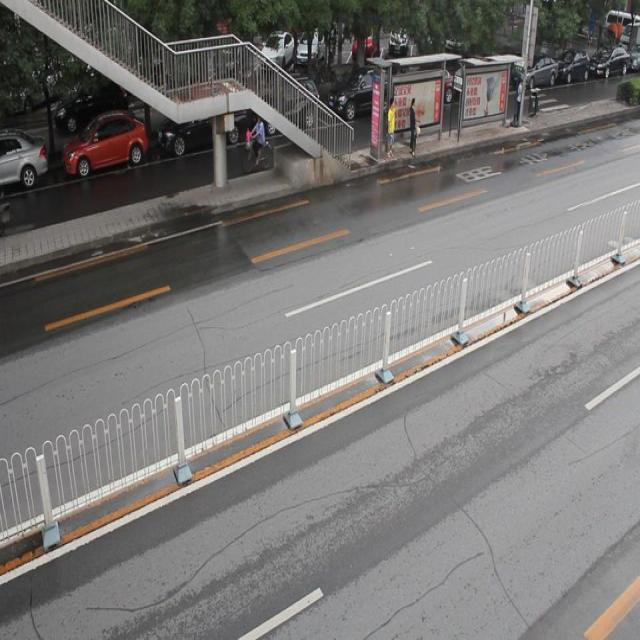car: (63, 112, 148, 172), (157, 99, 245, 155), (249, 80, 321, 137), (326, 70, 395, 126), (1, 126, 48, 190)
